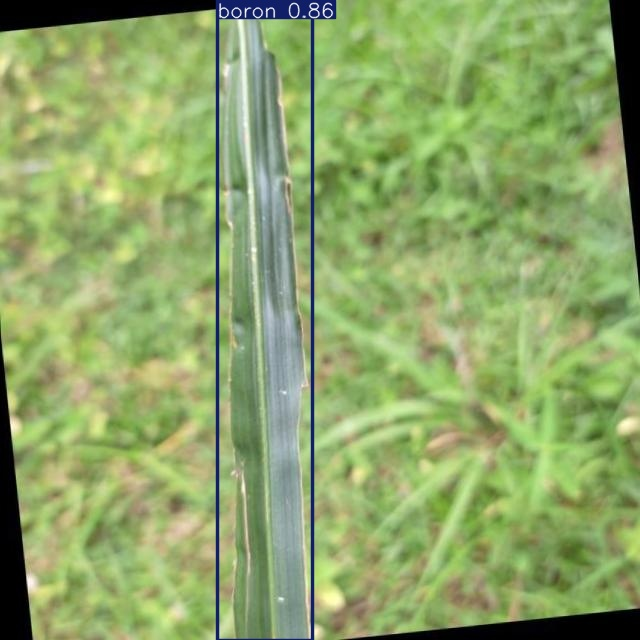nitrogen: (218, 0, 312, 640)
